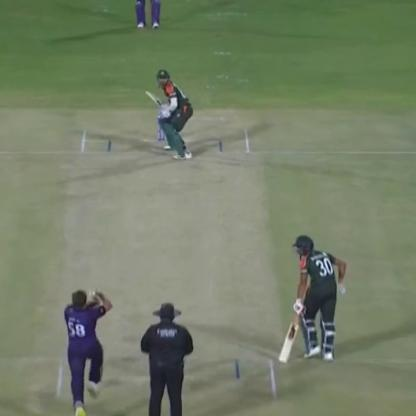ball: (88, 287, 99, 298)
bat: (275, 302, 306, 367), (141, 83, 171, 122)
pitch: (48, 130, 287, 412)
